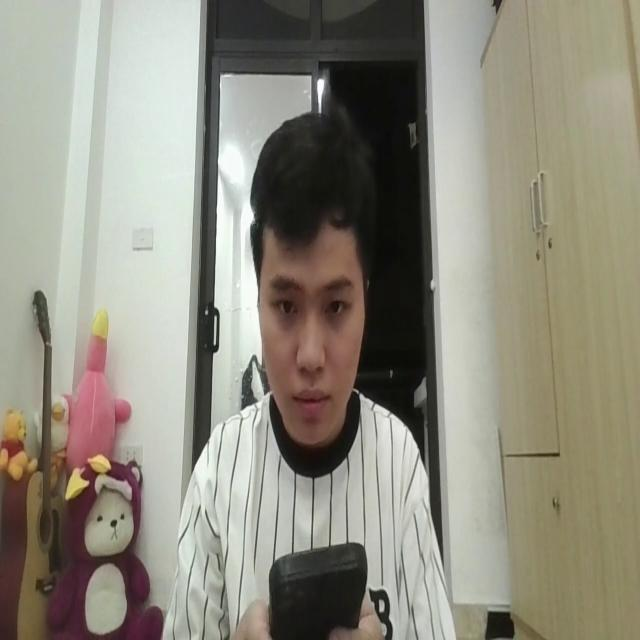phone: (268, 533, 370, 640)
student: (156, 106, 453, 640)
